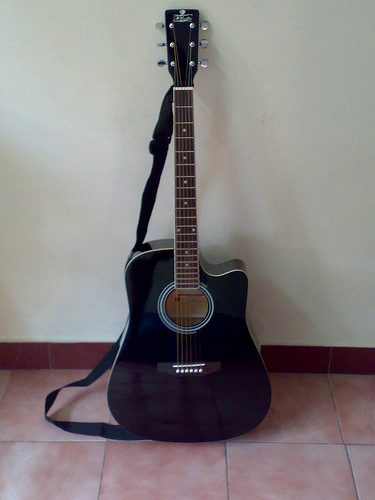guitar: (107, 7, 276, 447)
